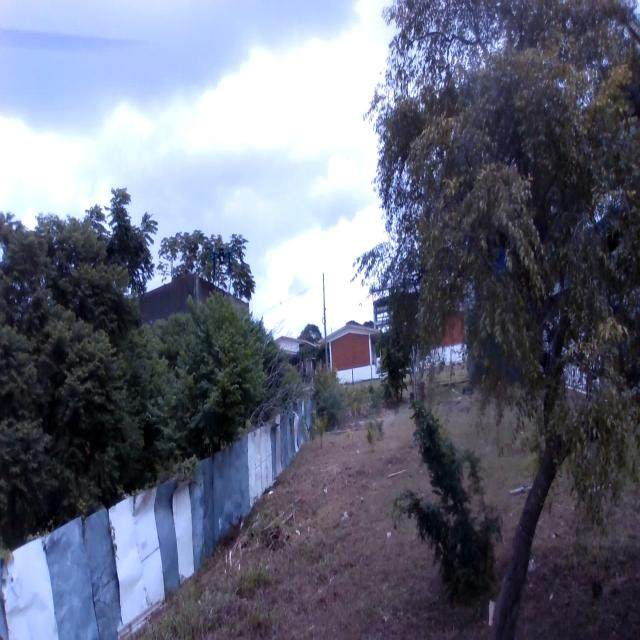-uav-: (203, 231, 245, 286)
